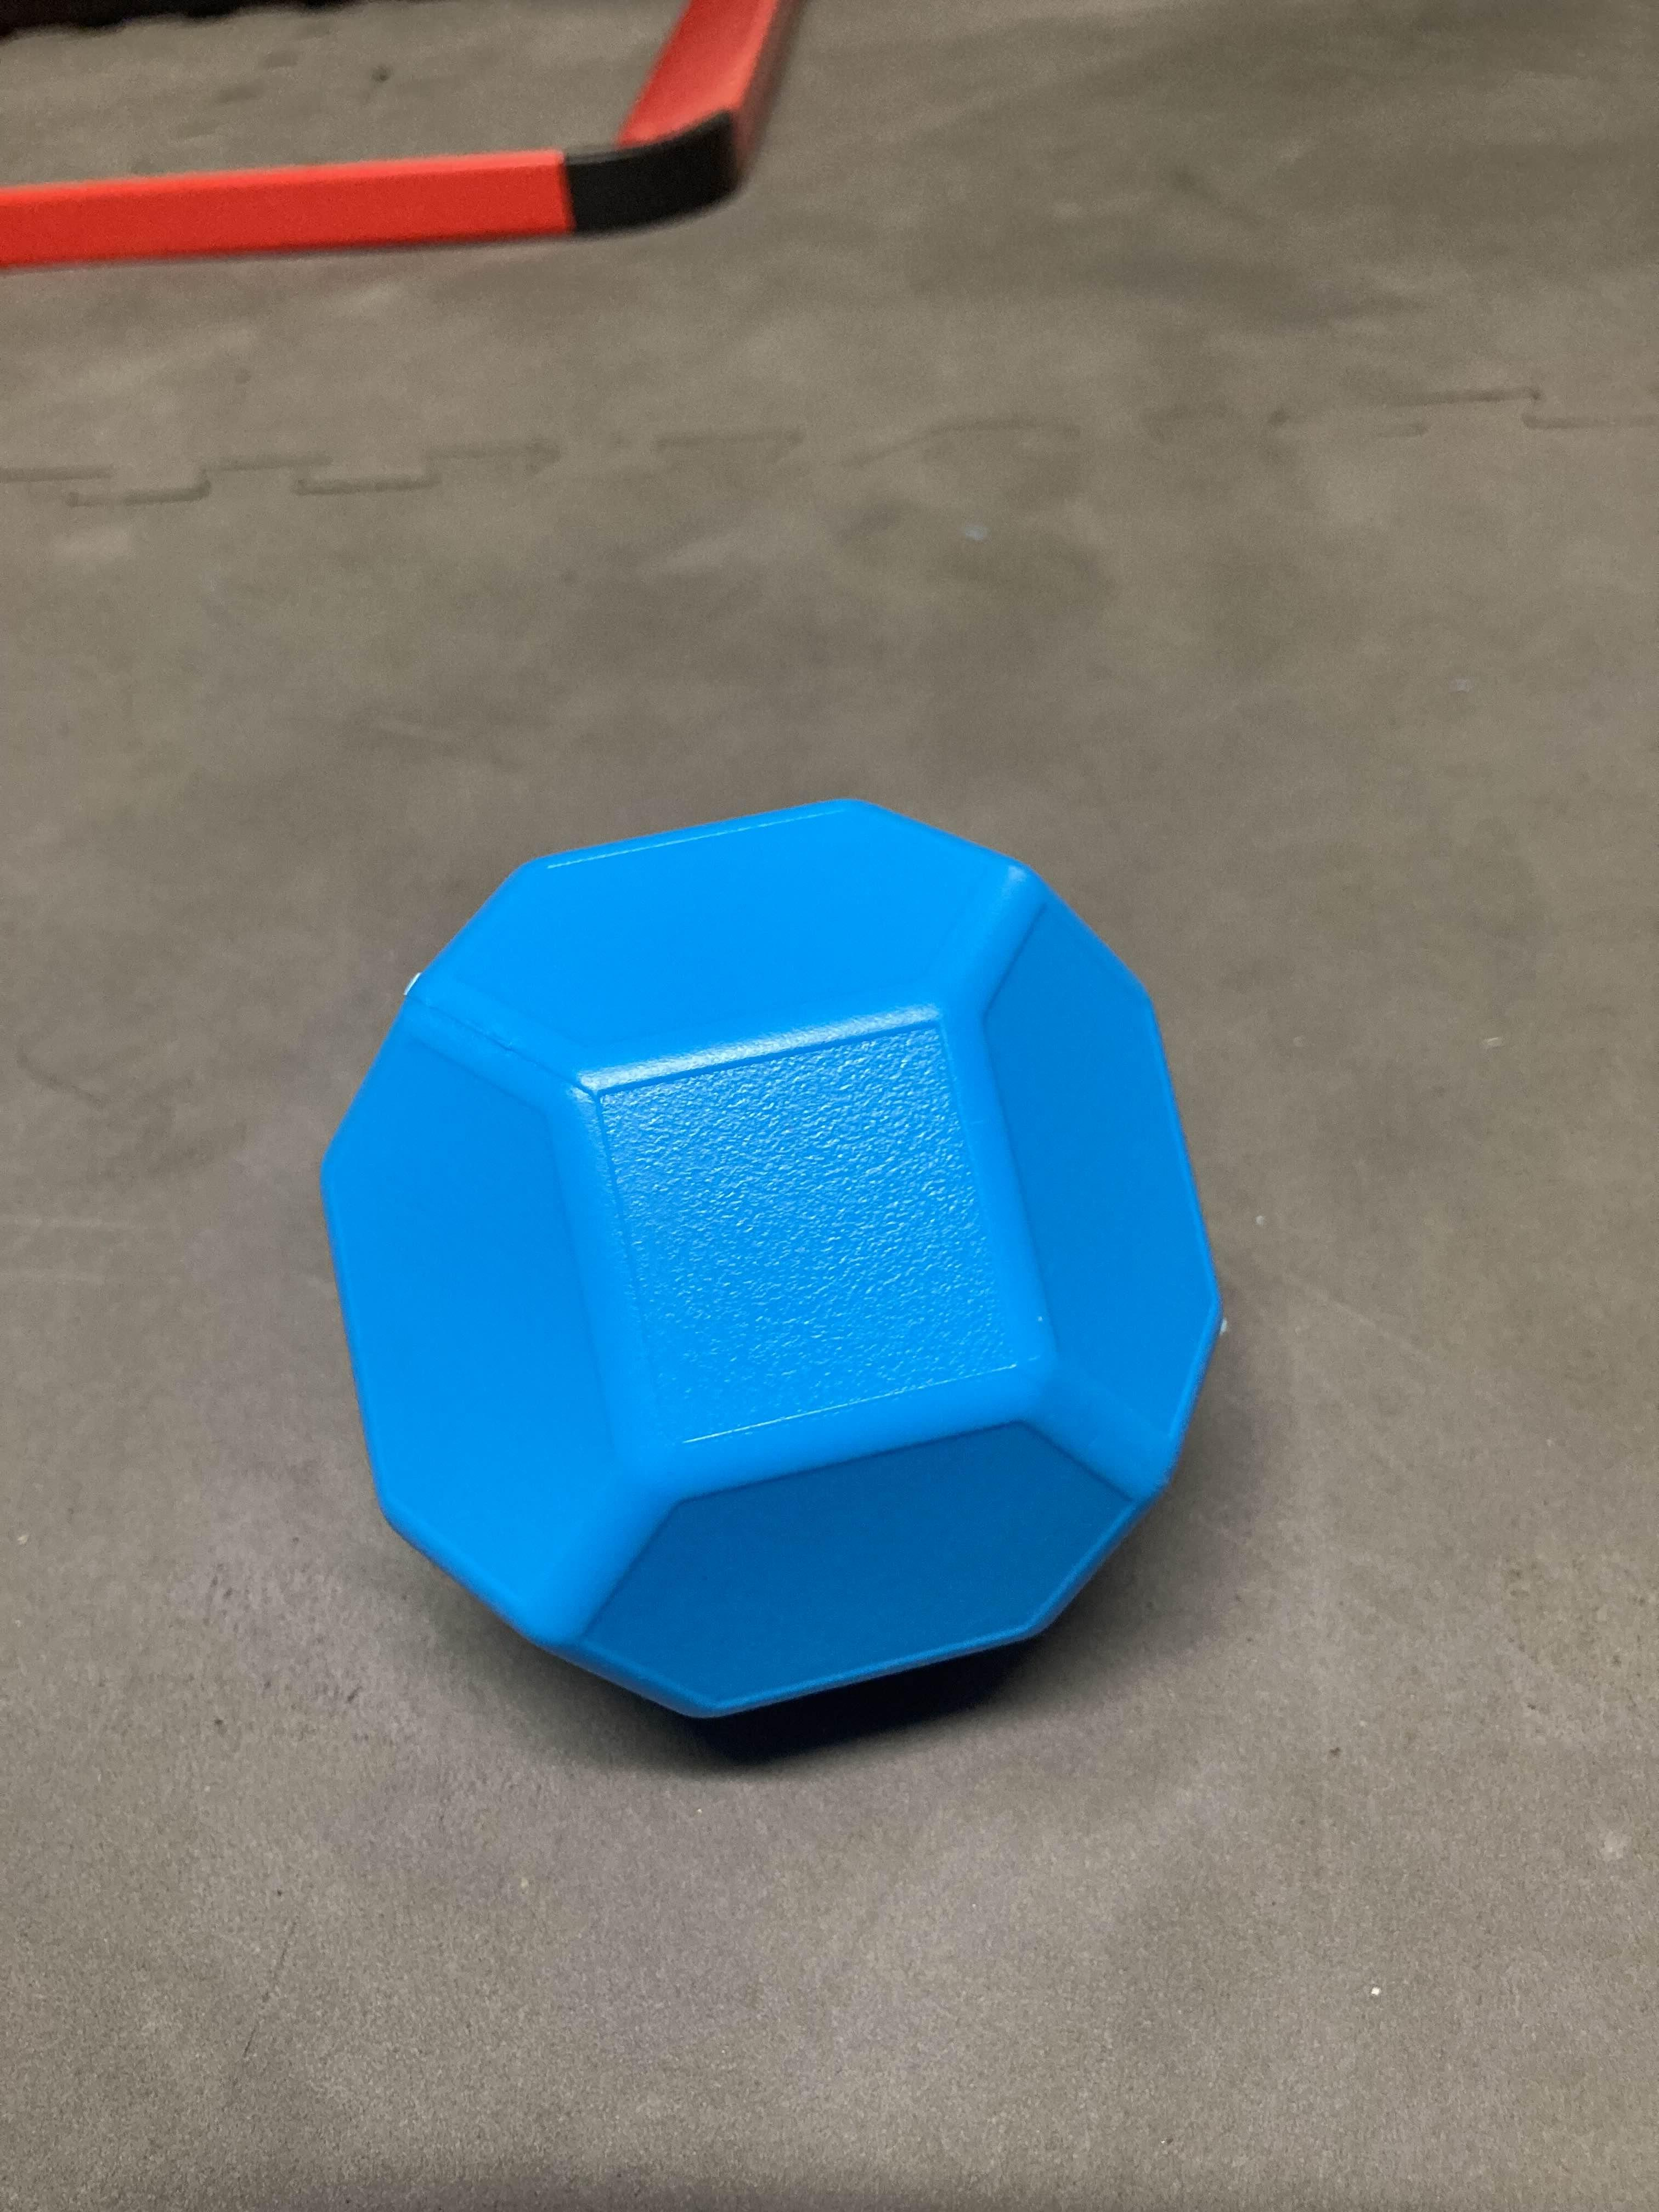Vex-Pieces-BLUE: (322, 801, 1222, 1717)
